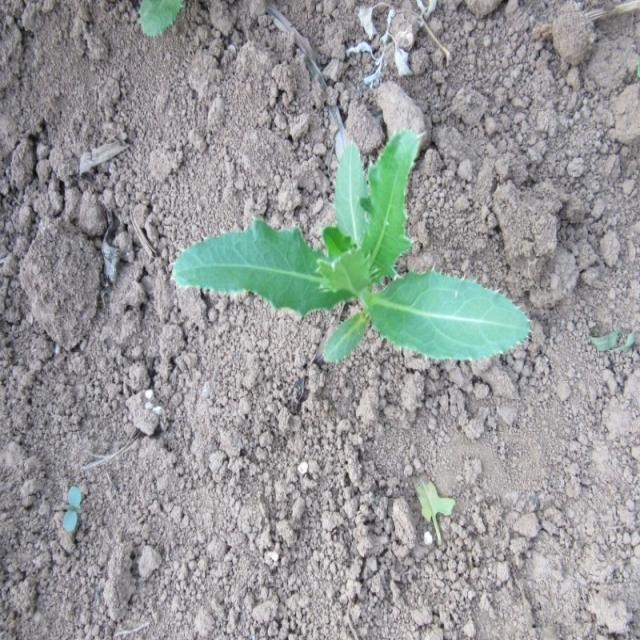cs: (170, 127, 533, 368)
